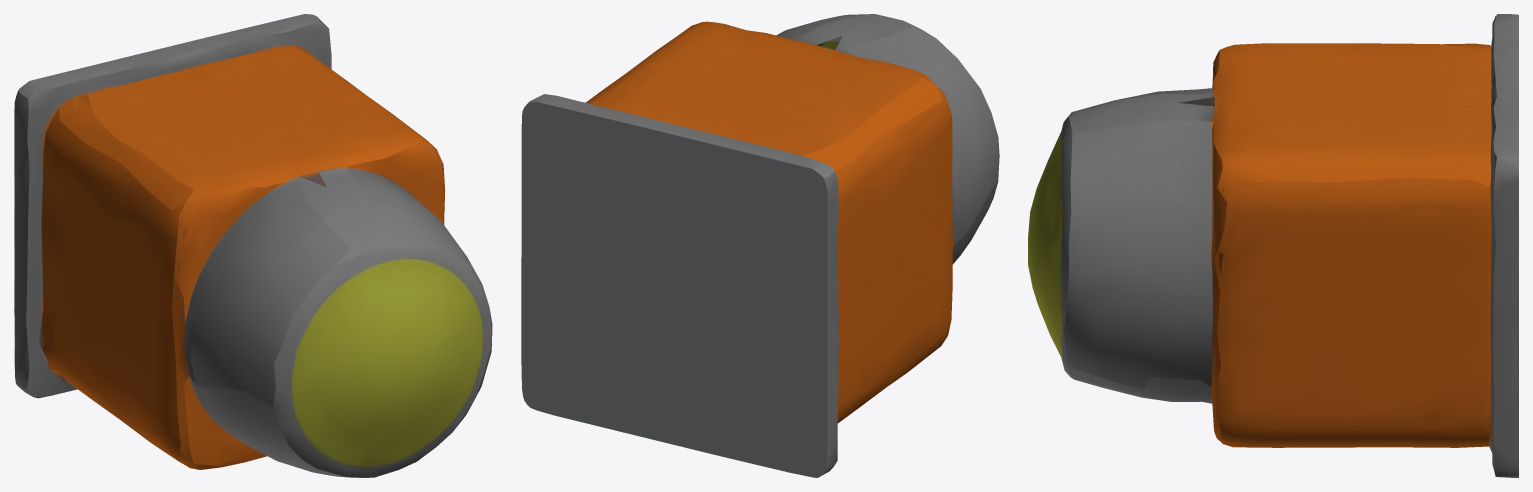
File: lidar_mk1.glb
The picture shows the model from 3 angles, left to right: view 1: azimuth 30°, elevation 25°; view 2: azimuth 150°, elevation 25°; view 3: azimuth 270°, elevation 25°; orthographic projection. The views are drawn at different scales.
Visible parts, largest first — view 1: part; view 2: part; view 3: part.
Part boxes in pixels (bbox=[...]): part: bbox=[14, 14, 492, 477]; part: bbox=[521, 14, 999, 477]; part: bbox=[1028, 14, 1518, 477].
Size of the model in its own units: 0.6 by 0.5801 by 0.8.
2 materials, 1 textured.
